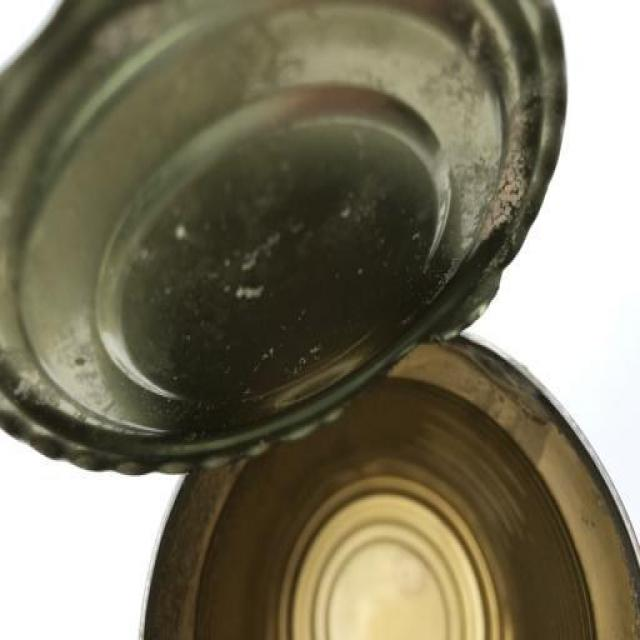metel: (3, 1, 640, 640)
